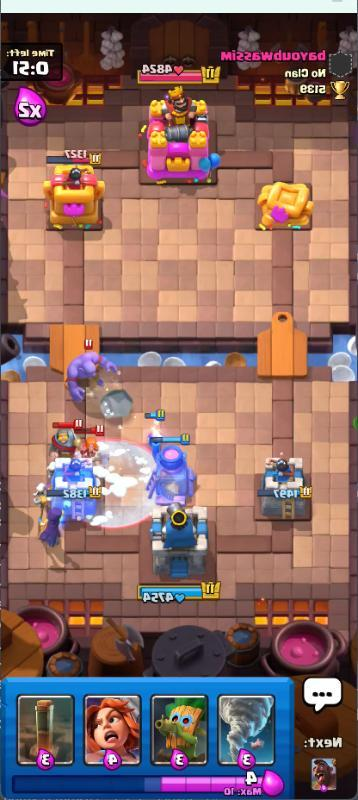enemy_knight: (44, 418, 82, 460)
enemy_valkyrie: (79, 428, 108, 461)
player_knight: (61, 341, 122, 409)
player_skeletons: (35, 480, 46, 498)
player_witch: (34, 492, 69, 551)
